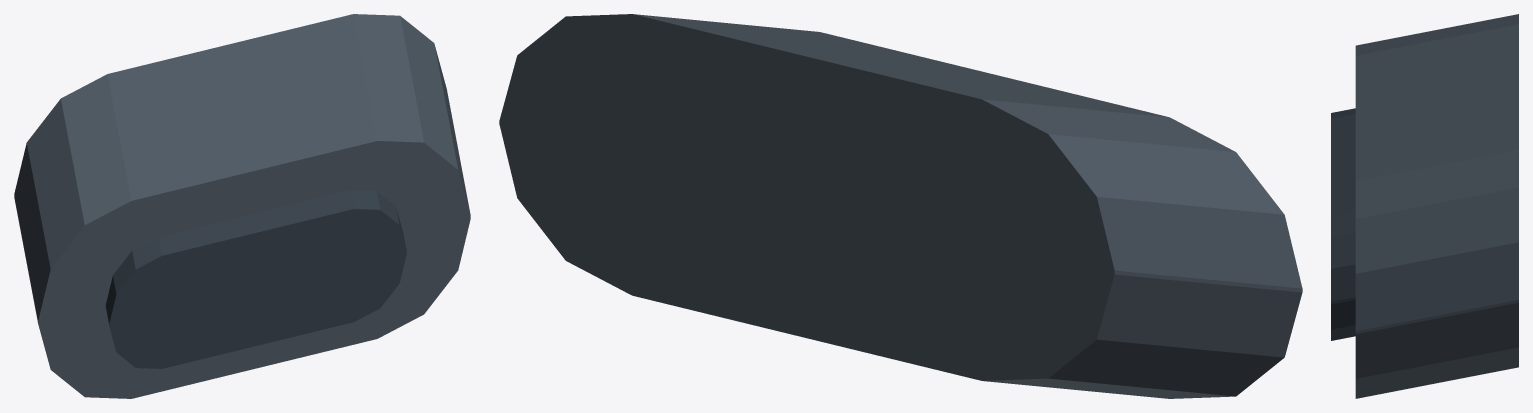
Rendered from Signal_LampOff.gltf.
3 renders of one model, left to right at view 1: azimuth 30°, elevation 25°; view 2: azimuth 150°, elevation 25°; view 3: azimuth 270°, elevation 25°, orthographic. The views are drawn at different scales.
Parts seen in each view (by area): view 1: Signal_LampOff_baked; view 2: Signal_LampOff_baked; view 3: Signal_LampOff_baked.
Boxes of the visible parts, x1,y1,x2,y2 form: Signal_LampOff_baked: [14, 14, 470, 398]; Signal_LampOff_baked: [499, 14, 1302, 398]; Signal_LampOff_baked: [1331, 14, 1518, 398].
Size of the model in its own units: 0.36 by 0.18 by 0.115.
